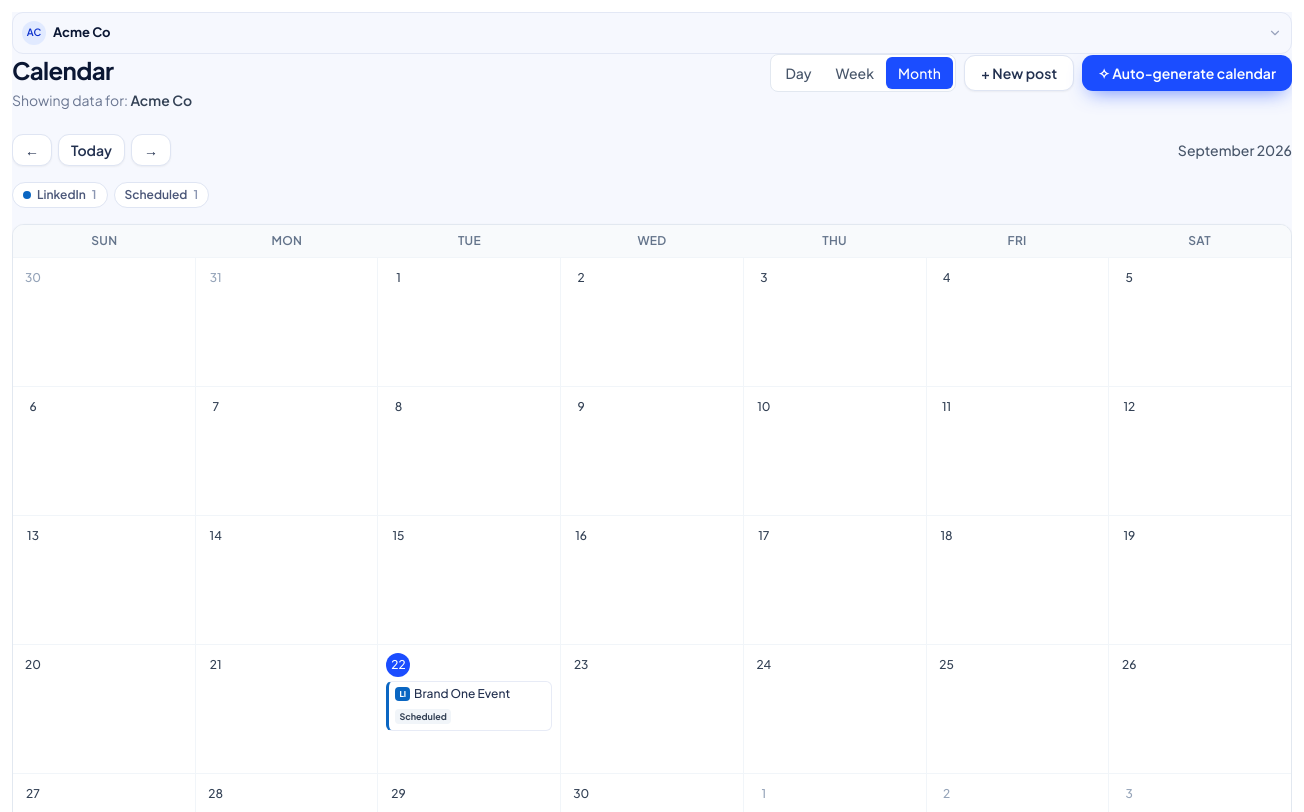
Test: CalendarPage › re-scopes the calendar when the selected brand changes
expect the button "LI Brand One Event Scheduled" is shown: met, box [386,680,552,730]
expect the button "Brand Two Event" is not shown: met
Select "Beta Inc" in the dropdown named "Select brand": (652, 33) [12,12,1292,54]
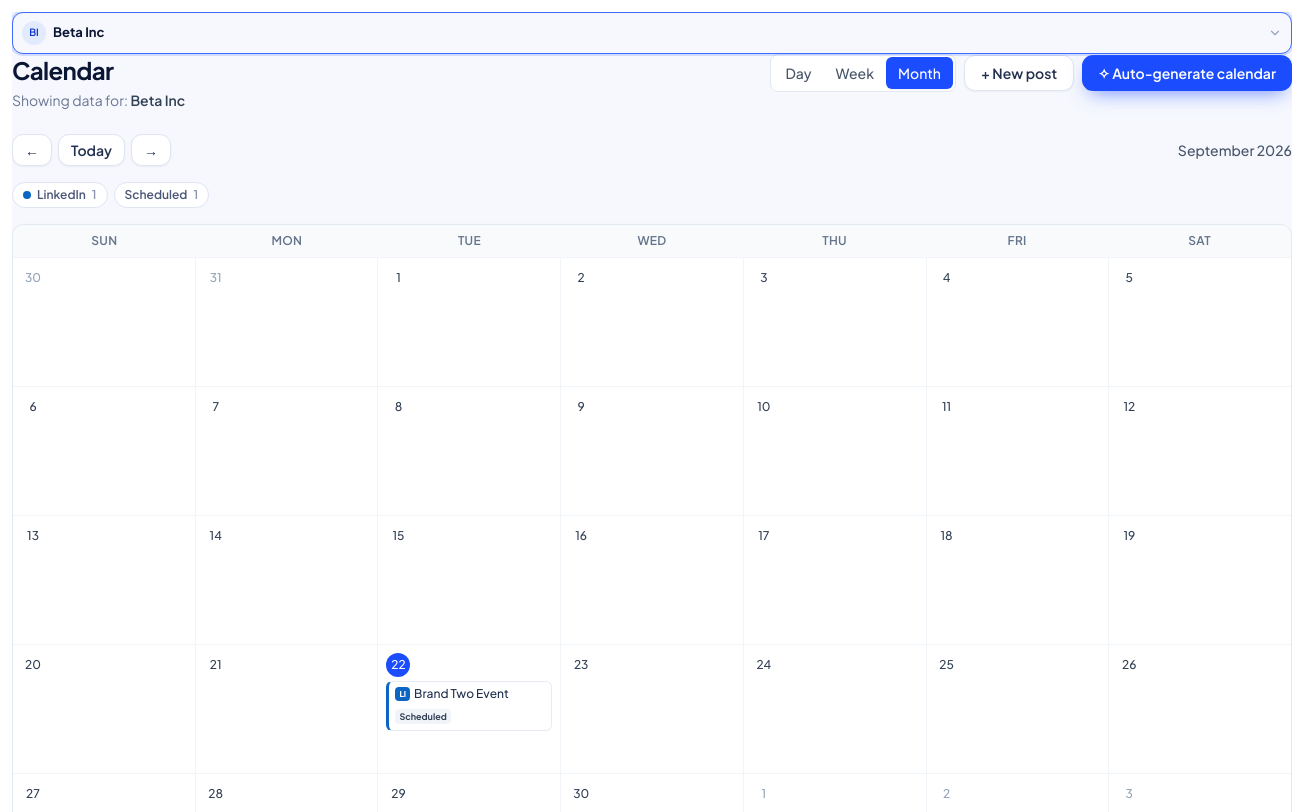
expect the button "LI Brand Two Event Scheduled" is shown: met, box [386,680,552,730]
expect the button "Brand One Event" is gone: met
